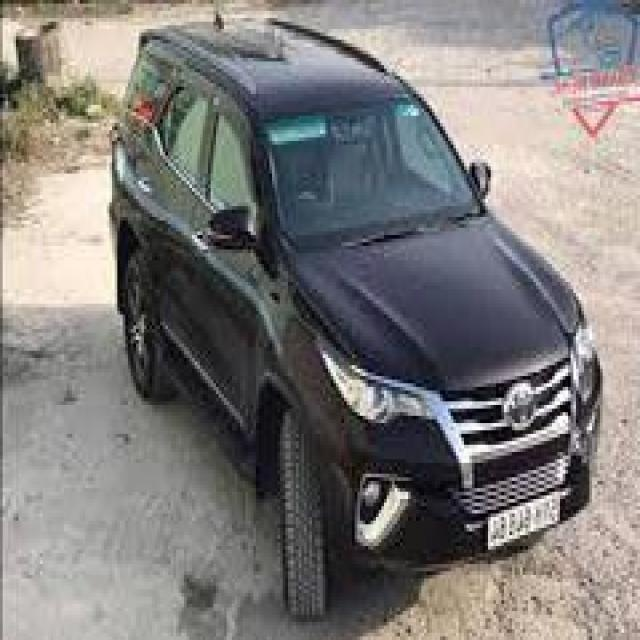car: (95, 0, 620, 615)
